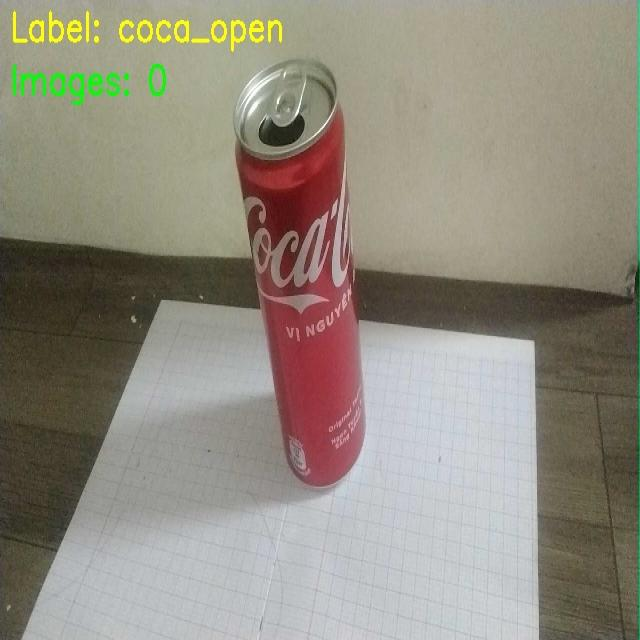Coca_open: (227, 46, 413, 489)
